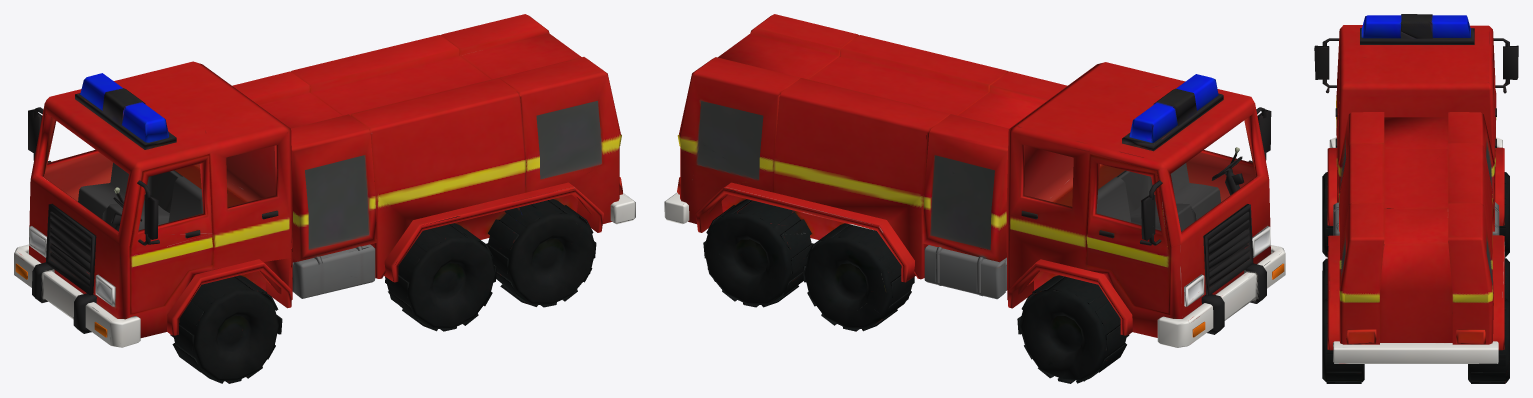
Rendered from 49-fire-truck.glb.
The picture shows the model from 3 angles, left to right: view 1: azimuth 30°, elevation 25°; view 2: azimuth 150°, elevation 25°; view 3: azimuth 270°, elevation 25°; orthographic projection. The views are drawn at different scales.
Visible parts, largest first — view 1: geometry_0; view 2: geometry_0; view 3: geometry_0.
Boxes of the visible parts, left/top/right/bottom form: geometry_0: left=14, top=14, right=635, bottom=383; geometry_0: left=664, top=14, right=1285, bottom=383; geometry_0: left=1314, top=14, right=1518, bottom=383.
Bounding box in the file's own units: 0.9502 × 0.4453 × 0.3872.
Materials: 1 (1 with a texture image).
